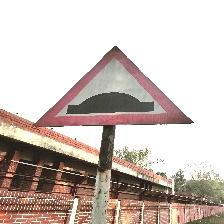Speed-breaker: (32, 47, 194, 127)
